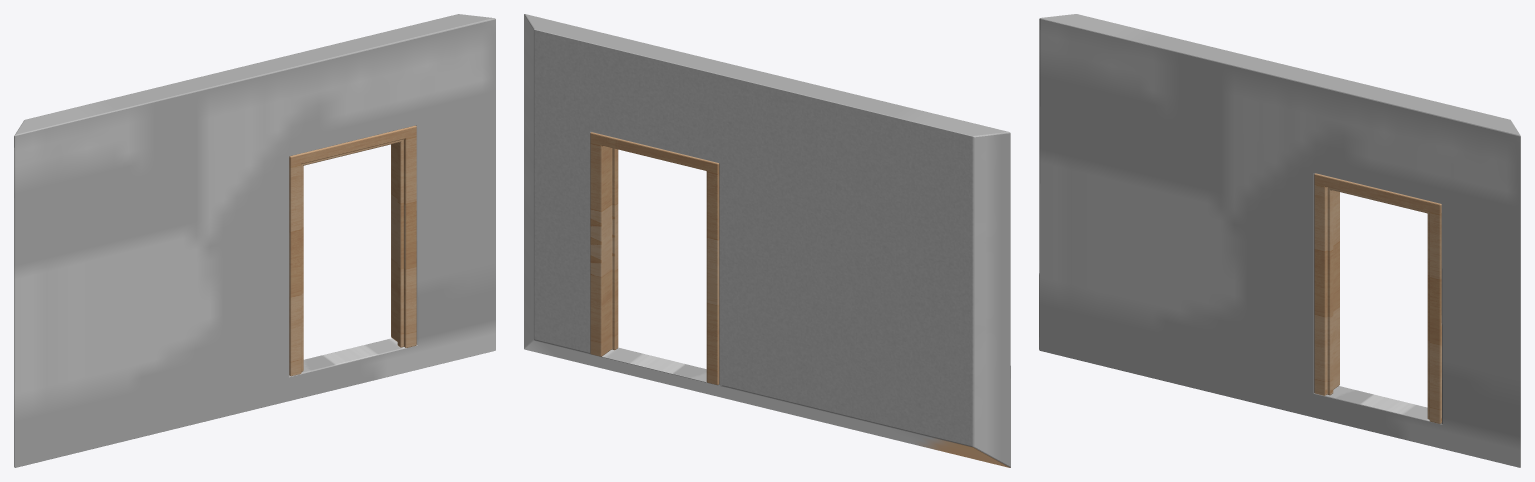
Rendered from Wall.000.fbx.
3 renders of one model, left to right at view 1: azimuth 30°, elevation 25°; view 2: azimuth 150°, elevation 25°; view 3: azimuth 330°, elevation 25°, orthographic.
Visible parts, largest first — view 1: Wall.000; view 2: Wall.000; view 3: Wall.000.
Part boxes in pixels (x1,y1,x2,y2): Wall.000: (14,14,495,467); Wall.000: (524,14,1010,467); Wall.000: (1039,14,1520,467).
Size of the model in its own units: 504 by 333 by 27.21.
